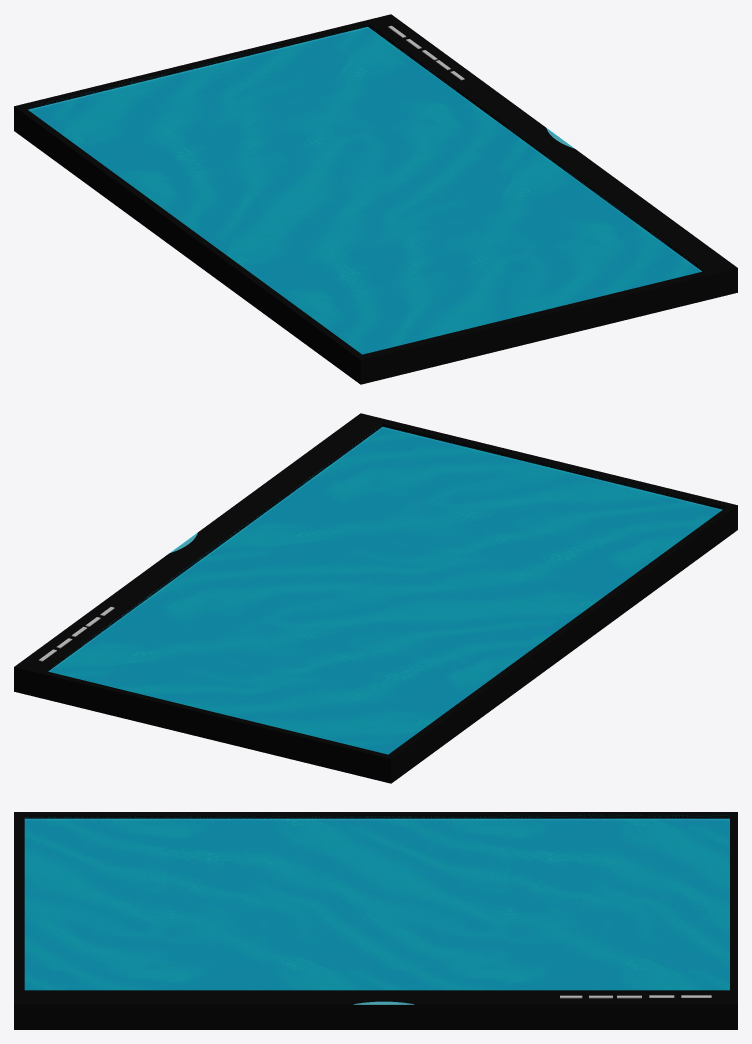
Rendered from lcd tv.dae.
3 views of the same model, one above another, from view 1: azimuth 30°, elevation 25°; view 2: azimuth 150°, elevation 25°; view 3: azimuth 270°, elevation 25° (orthographic). The views are drawn at different scales.
Parts seen in each view (by area): view 1: _60__LCD_T.V. (×5); view 2: _60__LCD_T.V. (×5); view 3: _60__LCD_T.V. (×5).
Boxes of the visible parts, left/top/right/bottom form: _60__LCD_T.V. (×5): left=14, top=14, right=737, bottom=384; _60__LCD_T.V. (×5): left=14, top=413, right=737, bottom=783; _60__LCD_T.V. (×5): left=14, top=812, right=737, bottom=1029.
Size of the model in its own units: 32 by 50.94 by 2.31.
